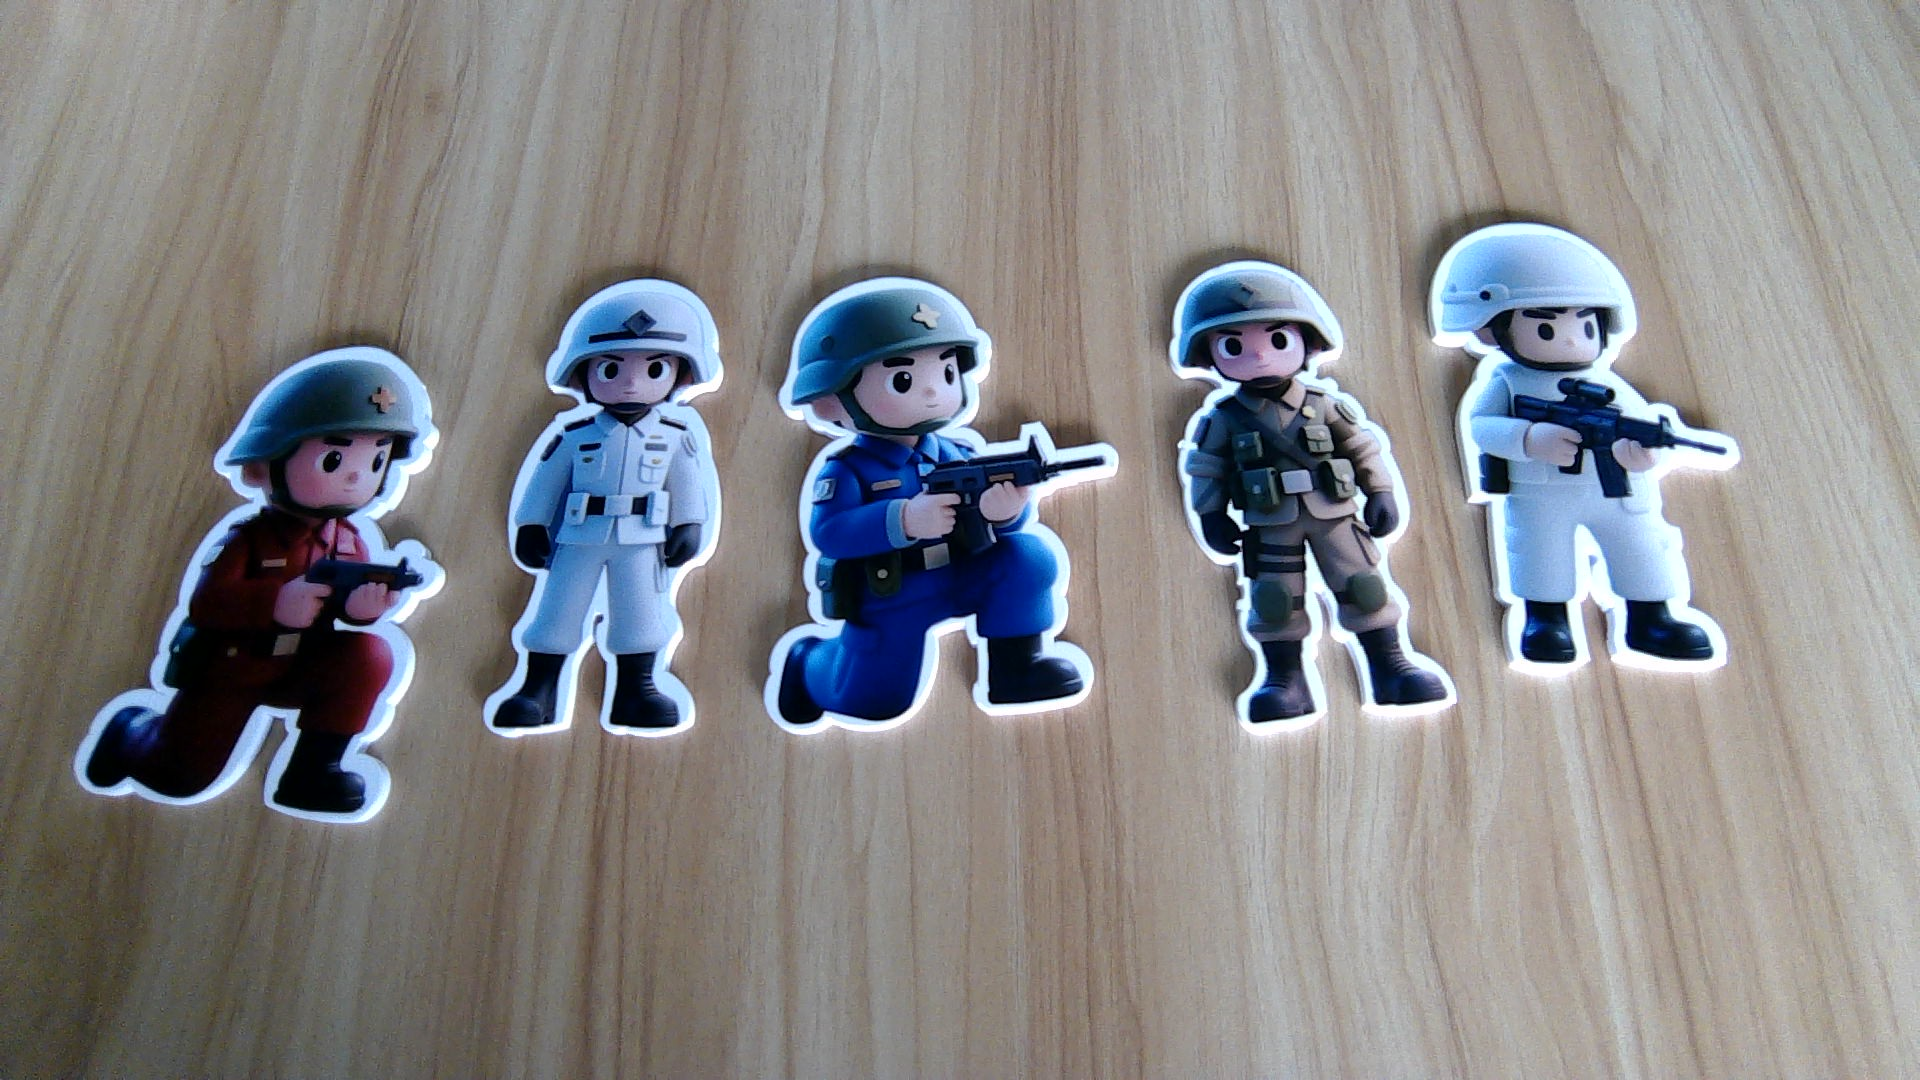人质: (1451, 363, 1751, 690), (476, 411, 728, 738)
友军: (1166, 381, 1460, 727)
敌人1: (69, 513, 443, 825)
敌人2: (761, 438, 1118, 727)
